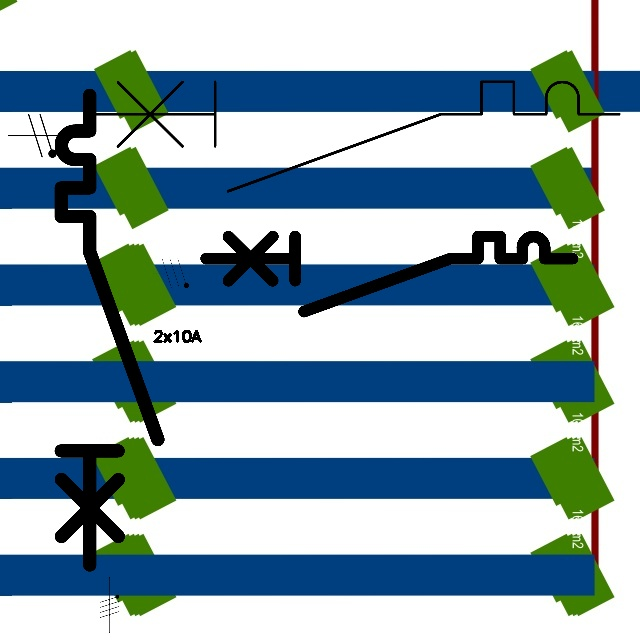interruptor_termomagnetico: (71, 68, 633, 205), (49, 83, 170, 577), (196, 227, 581, 321)
